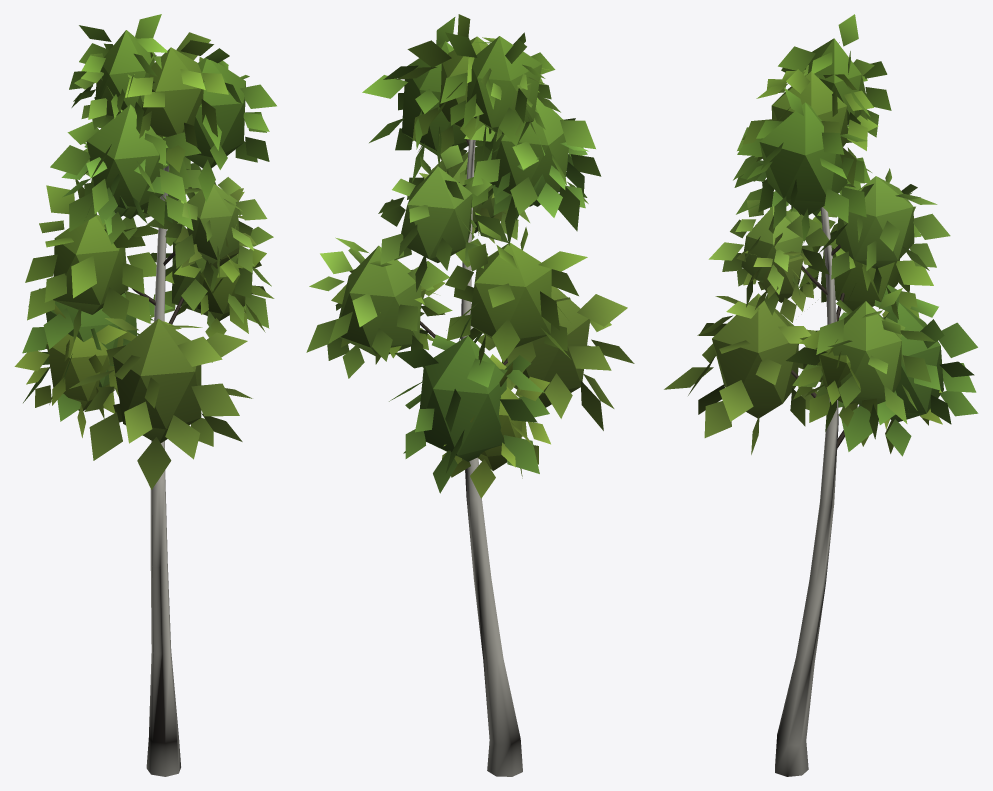
File: birch_b.glb
3 renders of one model, left to right at view 1: azimuth 30°, elevation 25°; view 2: azimuth 150°, elevation 25°; view 3: azimuth 270°, elevation 25°, orthographic. The views are drawn at different scales.
Visible parts, largest first — view 1: birch_b; view 2: birch_b; view 3: birch_b.
Part boxes in pixels (x1=…): birch_b: x1=14, y1=14, x2=276, y2=776; birch_b: x1=306, y1=14, x2=634, y2=776; birch_b: x1=664, y1=14, x2=978, y2=776.
Size of the model in its own units: 3.28 by 9.5 by 3.72.
